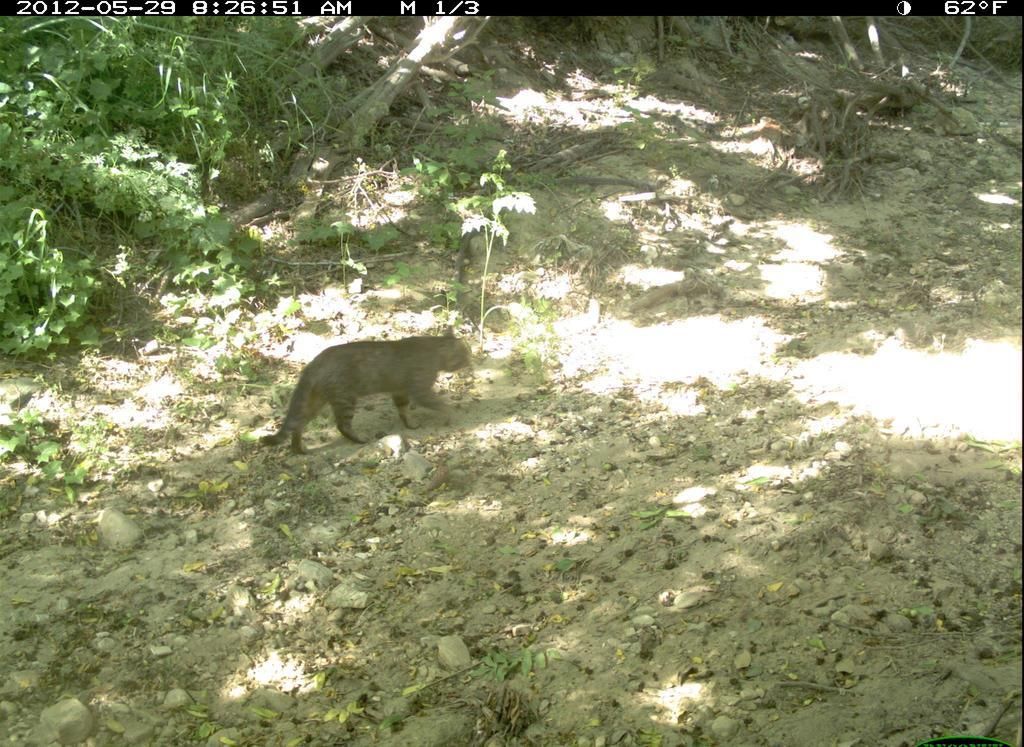cat: (250, 323, 478, 463)
